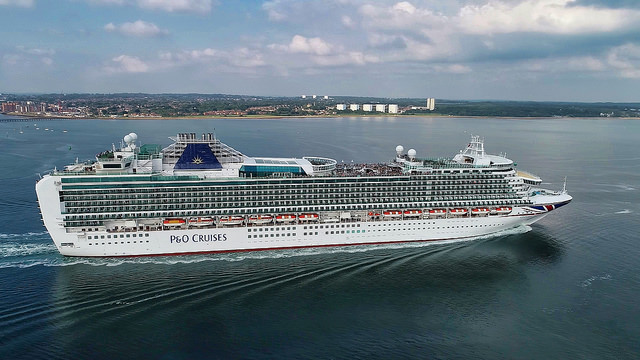cruise_ship: (39, 131, 574, 252)
